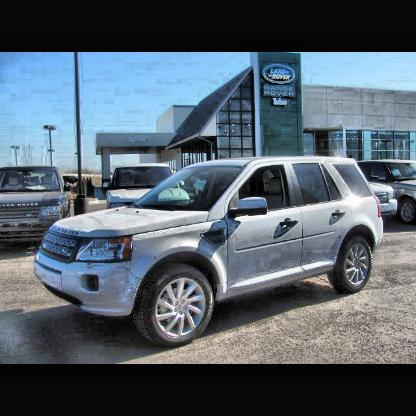Land Rover LR2 SUV 2012: (33, 156, 387, 349)
